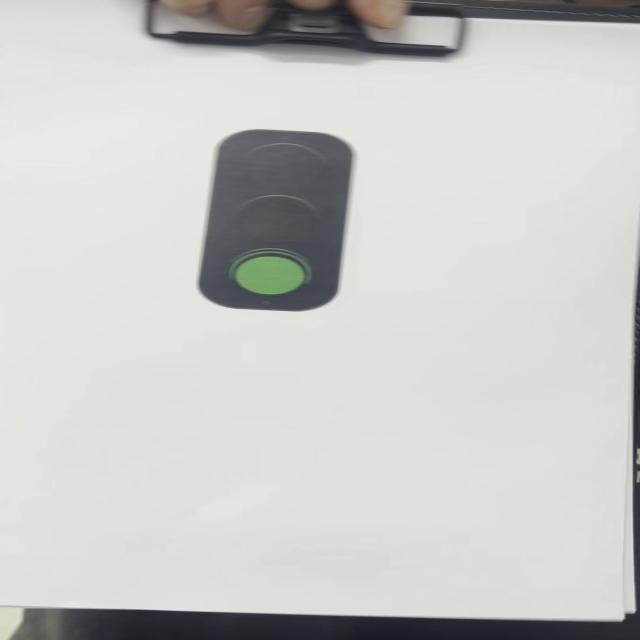green: (201, 129, 354, 313)
